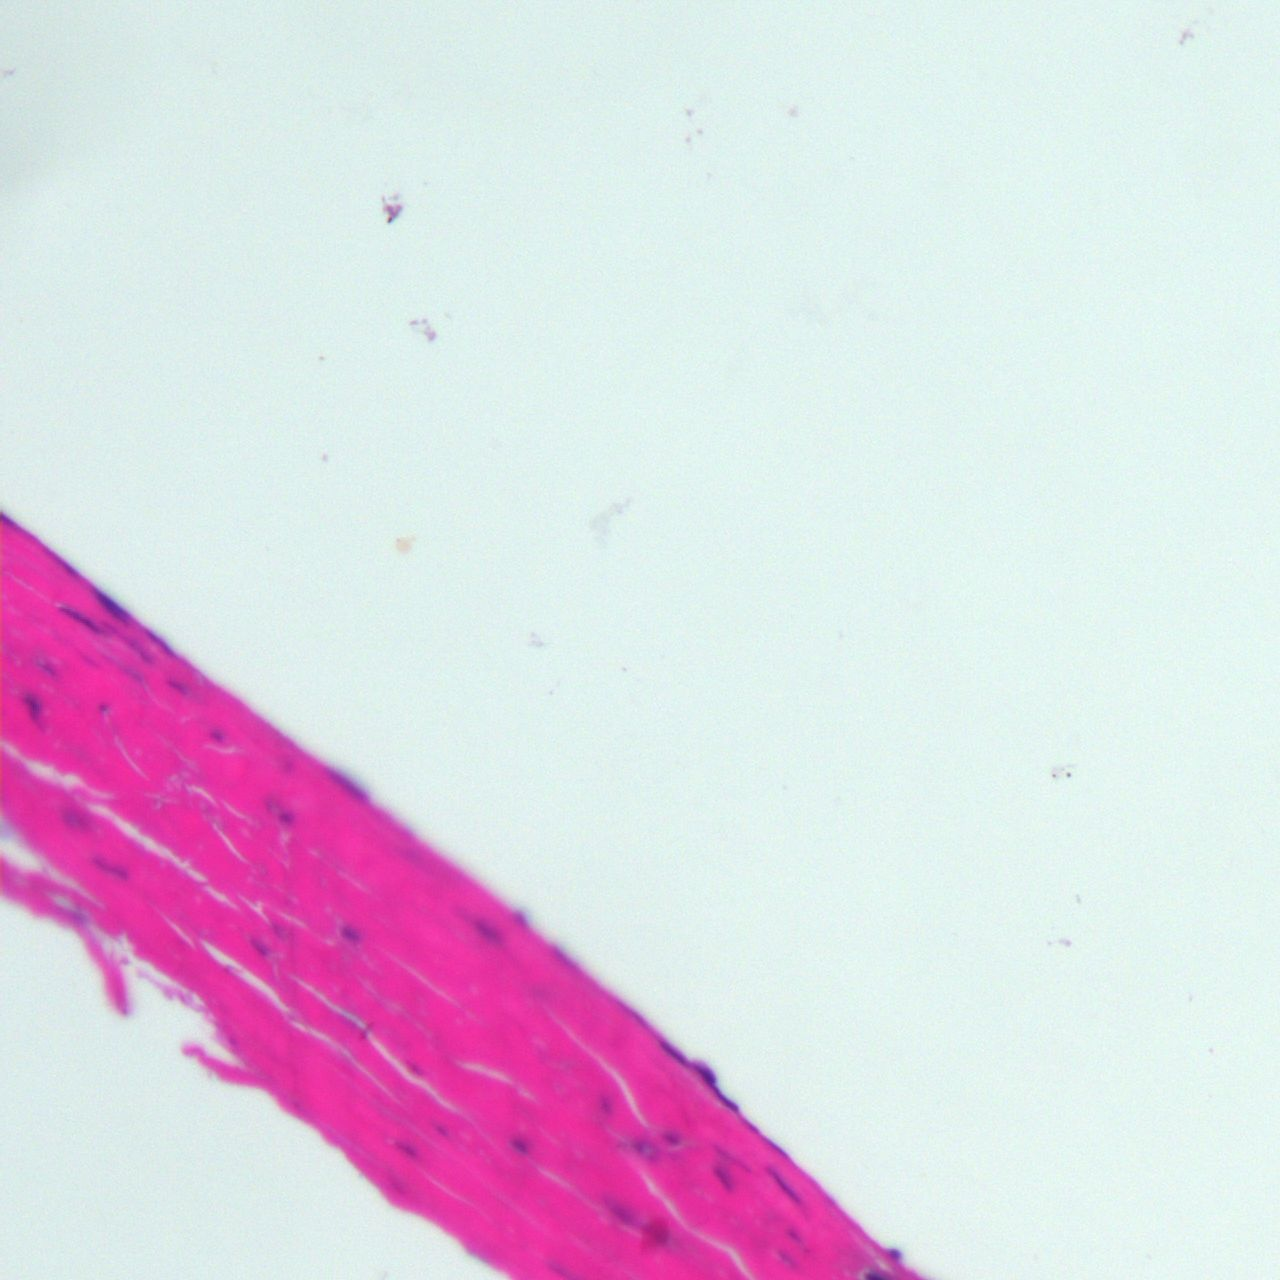nucleus-HE: (656, 1030, 745, 1114), (86, 580, 139, 632), (597, 1193, 649, 1239), (322, 762, 373, 808), (762, 1162, 808, 1211), (139, 624, 190, 667), (105, 649, 149, 690), (57, 600, 103, 639), (703, 1155, 741, 1197), (469, 915, 508, 949), (617, 1135, 661, 1163), (91, 852, 130, 881), (389, 1133, 421, 1163), (22, 686, 45, 726), (660, 1124, 682, 1149), (246, 937, 272, 958), (508, 1131, 530, 1155), (339, 922, 358, 942), (206, 726, 224, 743), (277, 809, 293, 822), (96, 703, 111, 715)
